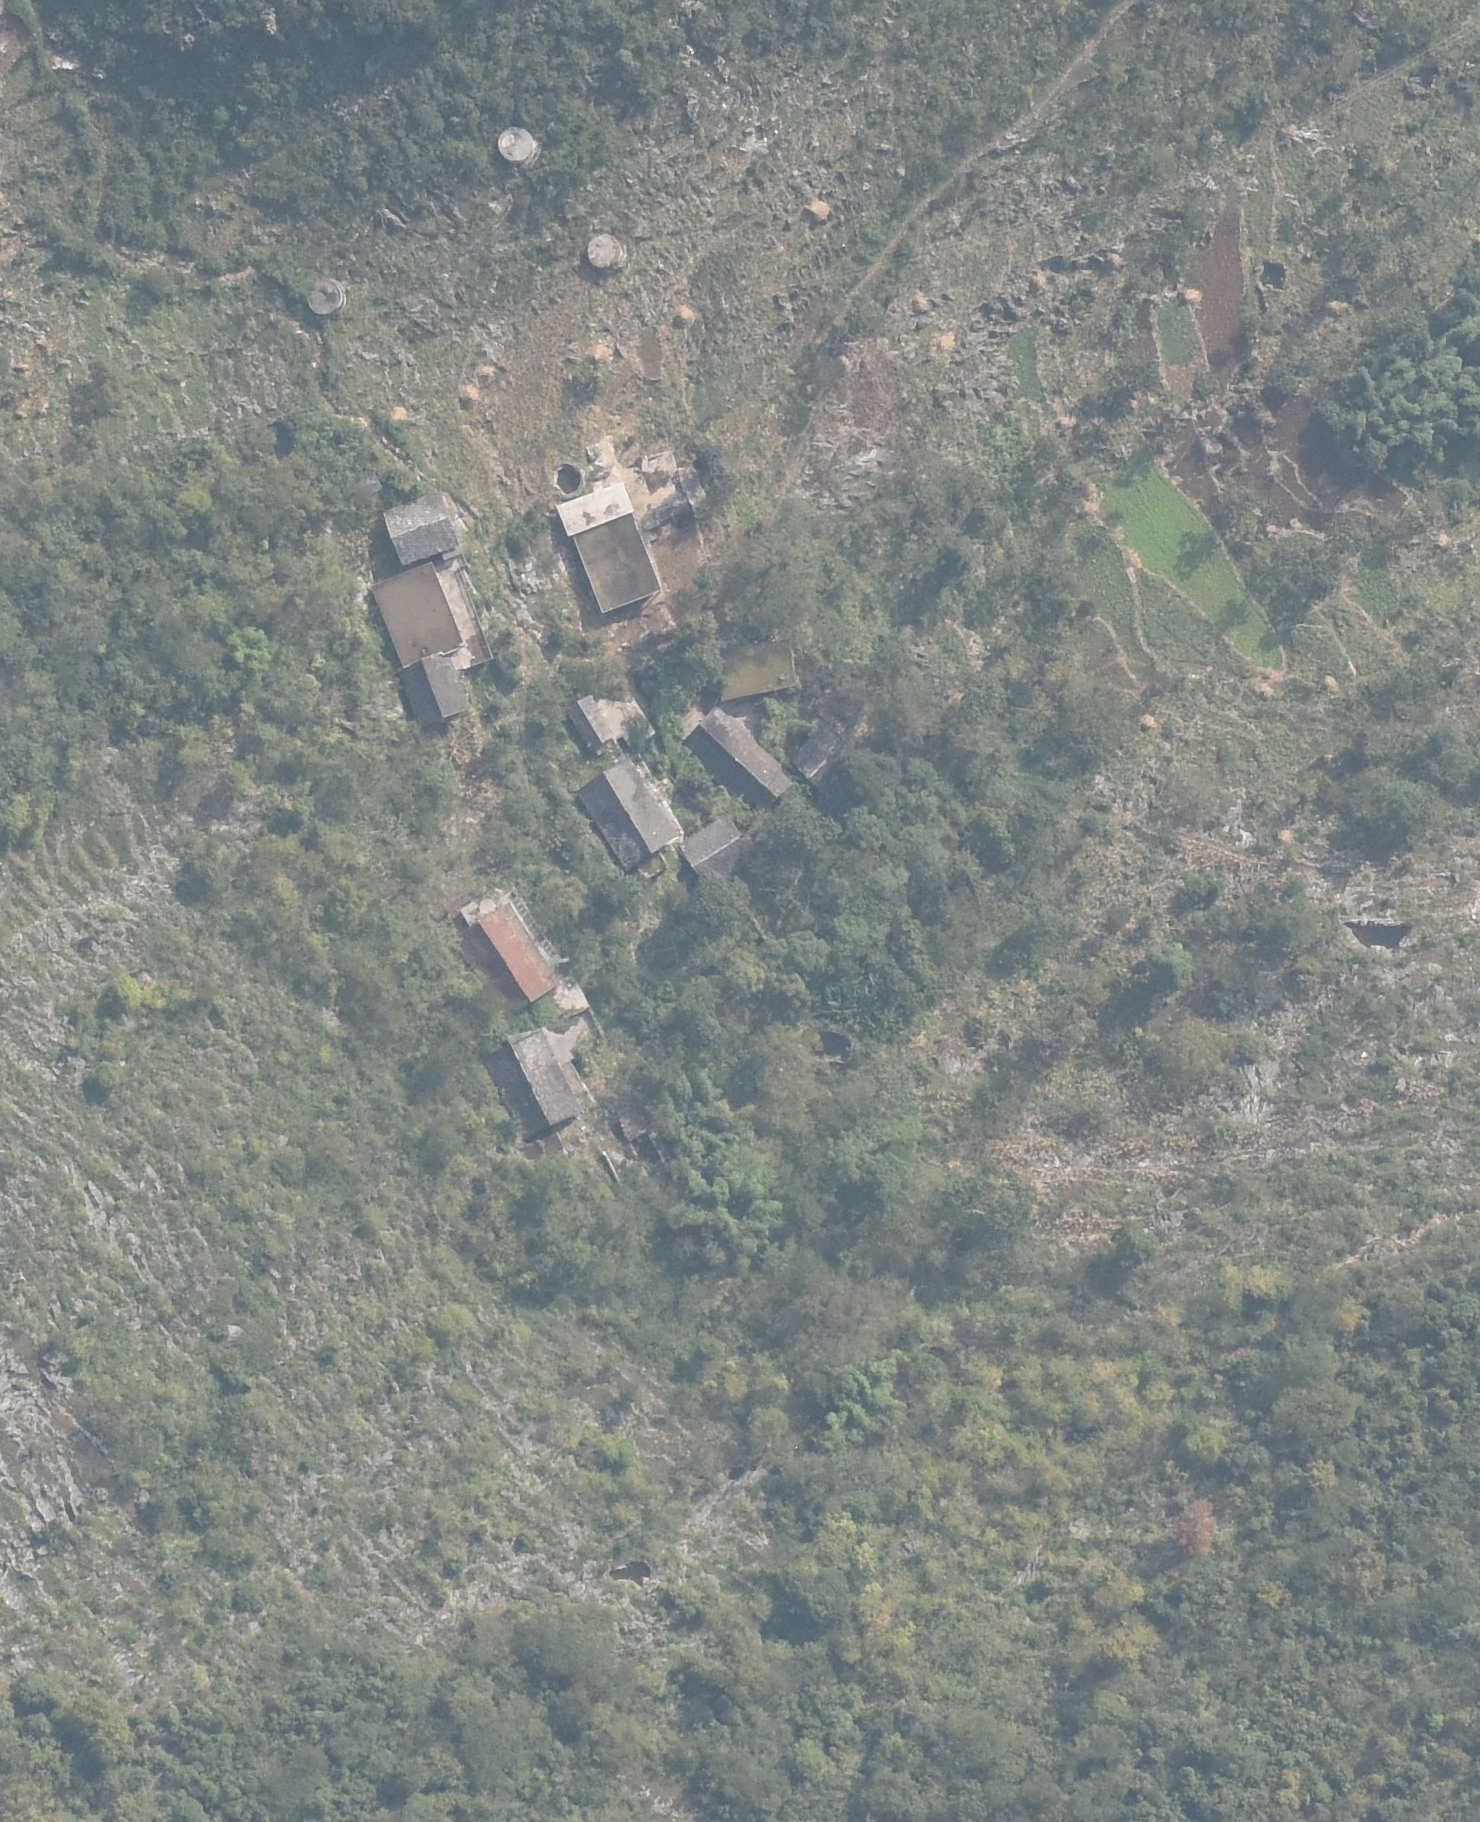building: (550, 483, 678, 623), (356, 559, 498, 661), (452, 900, 574, 1011), (482, 1029, 594, 1143), (680, 705, 794, 808), (577, 759, 683, 866), (381, 503, 473, 566), (707, 637, 802, 697), (393, 664, 471, 732), (680, 812, 752, 877), (562, 694, 616, 752), (793, 728, 844, 786)
well: (495, 121, 538, 168), (584, 229, 630, 272), (302, 281, 347, 322)
